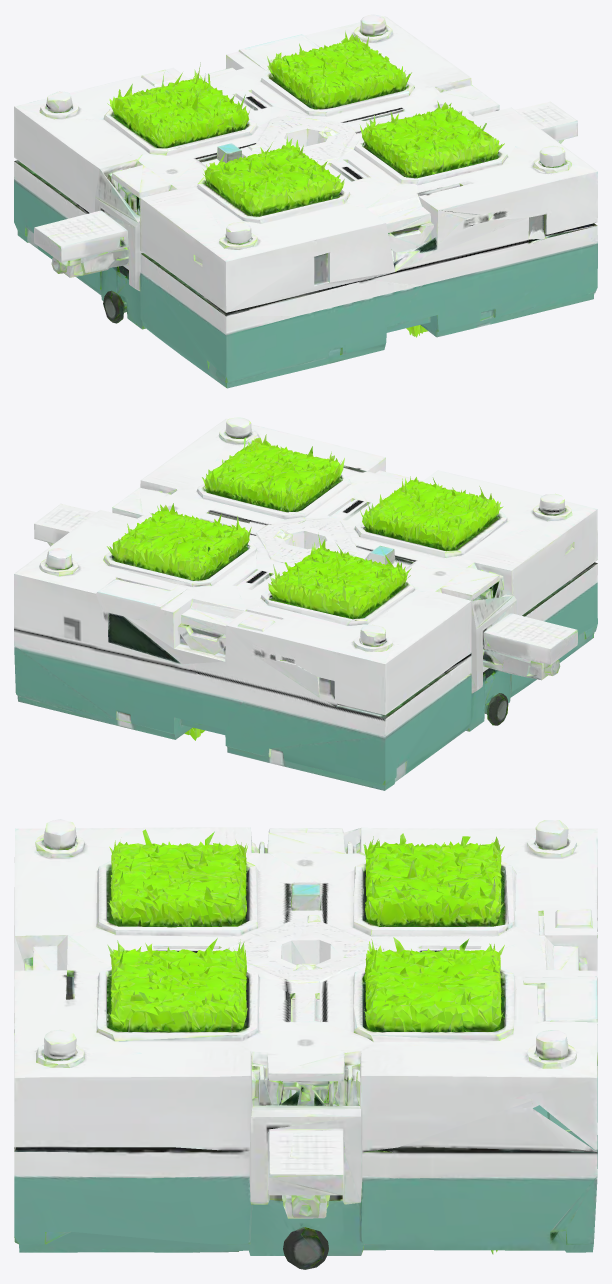
Rendered from ocean-farm-platform.glb.
The picture shows the model from 3 angles, top to bottom: view 1: azimuth 30°, elevation 25°; view 2: azimuth 150°, elevation 25°; view 3: azimuth 270°, elevation 25°; orthographic projection. The views are drawn at different scales.
Parts seen in each view (by area): view 1: Mesh_0; view 2: Mesh_0; view 3: Mesh_0.
Boxes of the visible parts, x1,y1,x2,y2 form: Mesh_0: [14, 14, 597, 388]; Mesh_0: [14, 417, 597, 790]; Mesh_0: [14, 819, 597, 1269].
Size of the model in its own units: 1.9 by 0.6986 by 1.35.
Materials: 1 (1 with a texture image).
